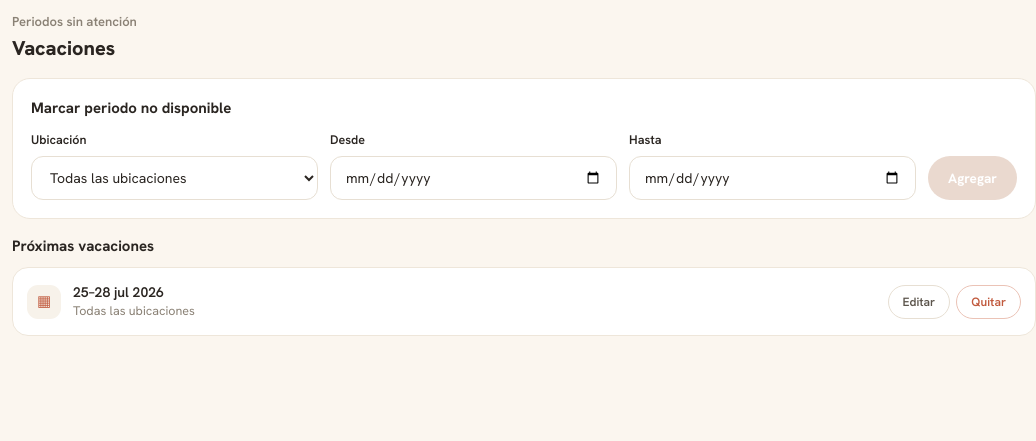
Test case: VacationEditor › shows the server's overlap error and keeps the edit open
The image size is (1036, 441).
Click the button "Editar": click(919, 302) 888,285 -> 950,319
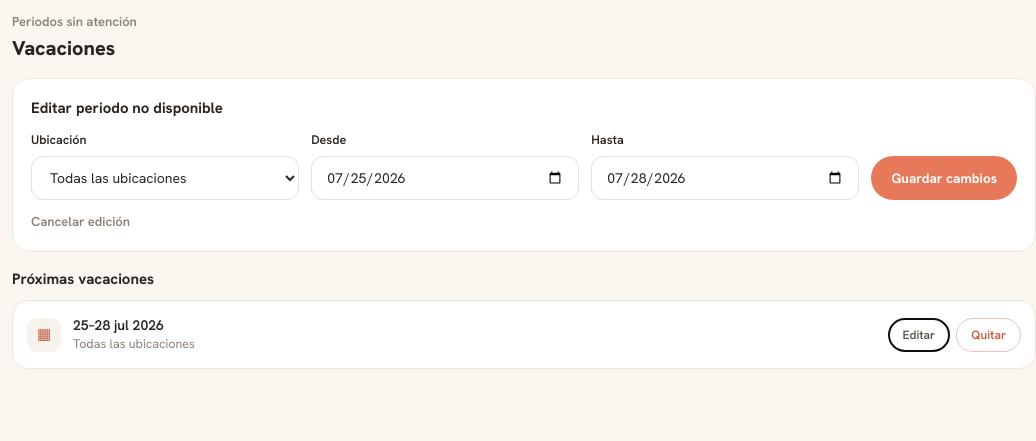
Click the button "Guardar cambios": click(944, 178) 871,156 -> 1017,200
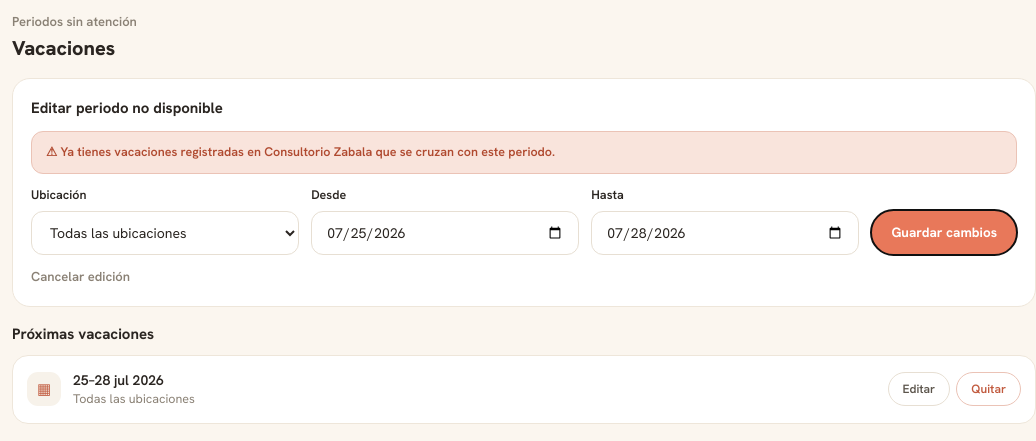
Expected: the button "Guardar cambios" is shown, 871,210 -> 1017,255
Expected: the message shows "Ya tienes vacaciones registradas en Consultorio Zabala que se cruzan con este periodo.", 60,143 -> 555,160
